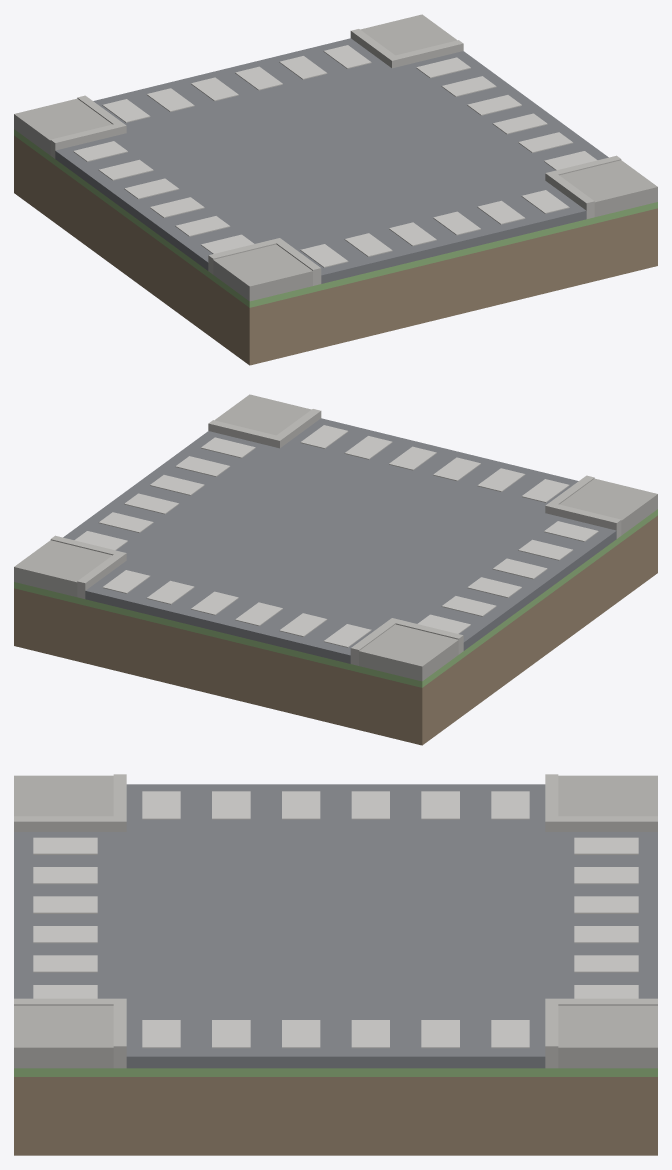
The model's file is ruas__asfalto_cruzamento.glb.
3 views of the same model, one above another, from view 1: azimuth 30°, elevation 25°; view 2: azimuth 150°, elevation 25°; view 3: azimuth 270°, elevation 25° (orthographic). The views are drawn at different scales.
Visible parts, largest first — view 1: ruas__asfalto_cruzamento; view 2: ruas__asfalto_cruzamento; view 3: ruas__asfalto_cruzamento.
Part boxes in pixels (x1=…): ruas__asfalto_cruzamento: x1=14, y1=14, x2=657, y2=365; ruas__asfalto_cruzamento: x1=14, y1=394, x2=657, y2=745; ruas__asfalto_cruzamento: x1=14, y1=774, x2=657, y2=1155.
Bounding box in the file's own units: 2 × 0.375 × 2.
